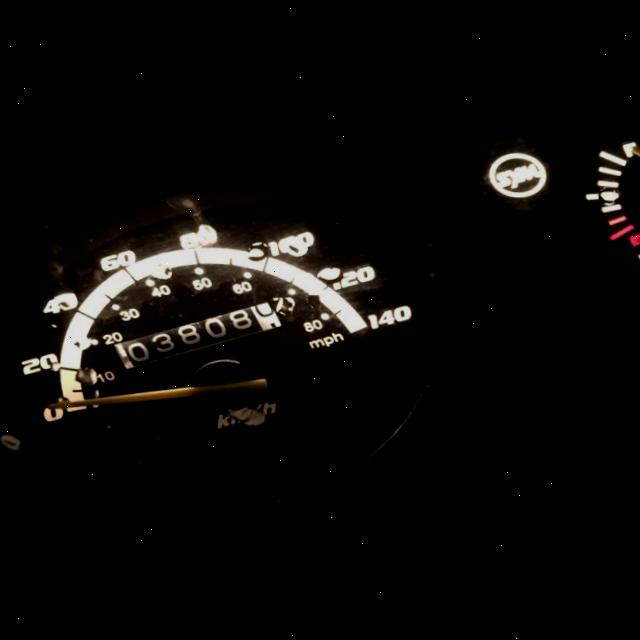odometer: (109, 294, 282, 376)
